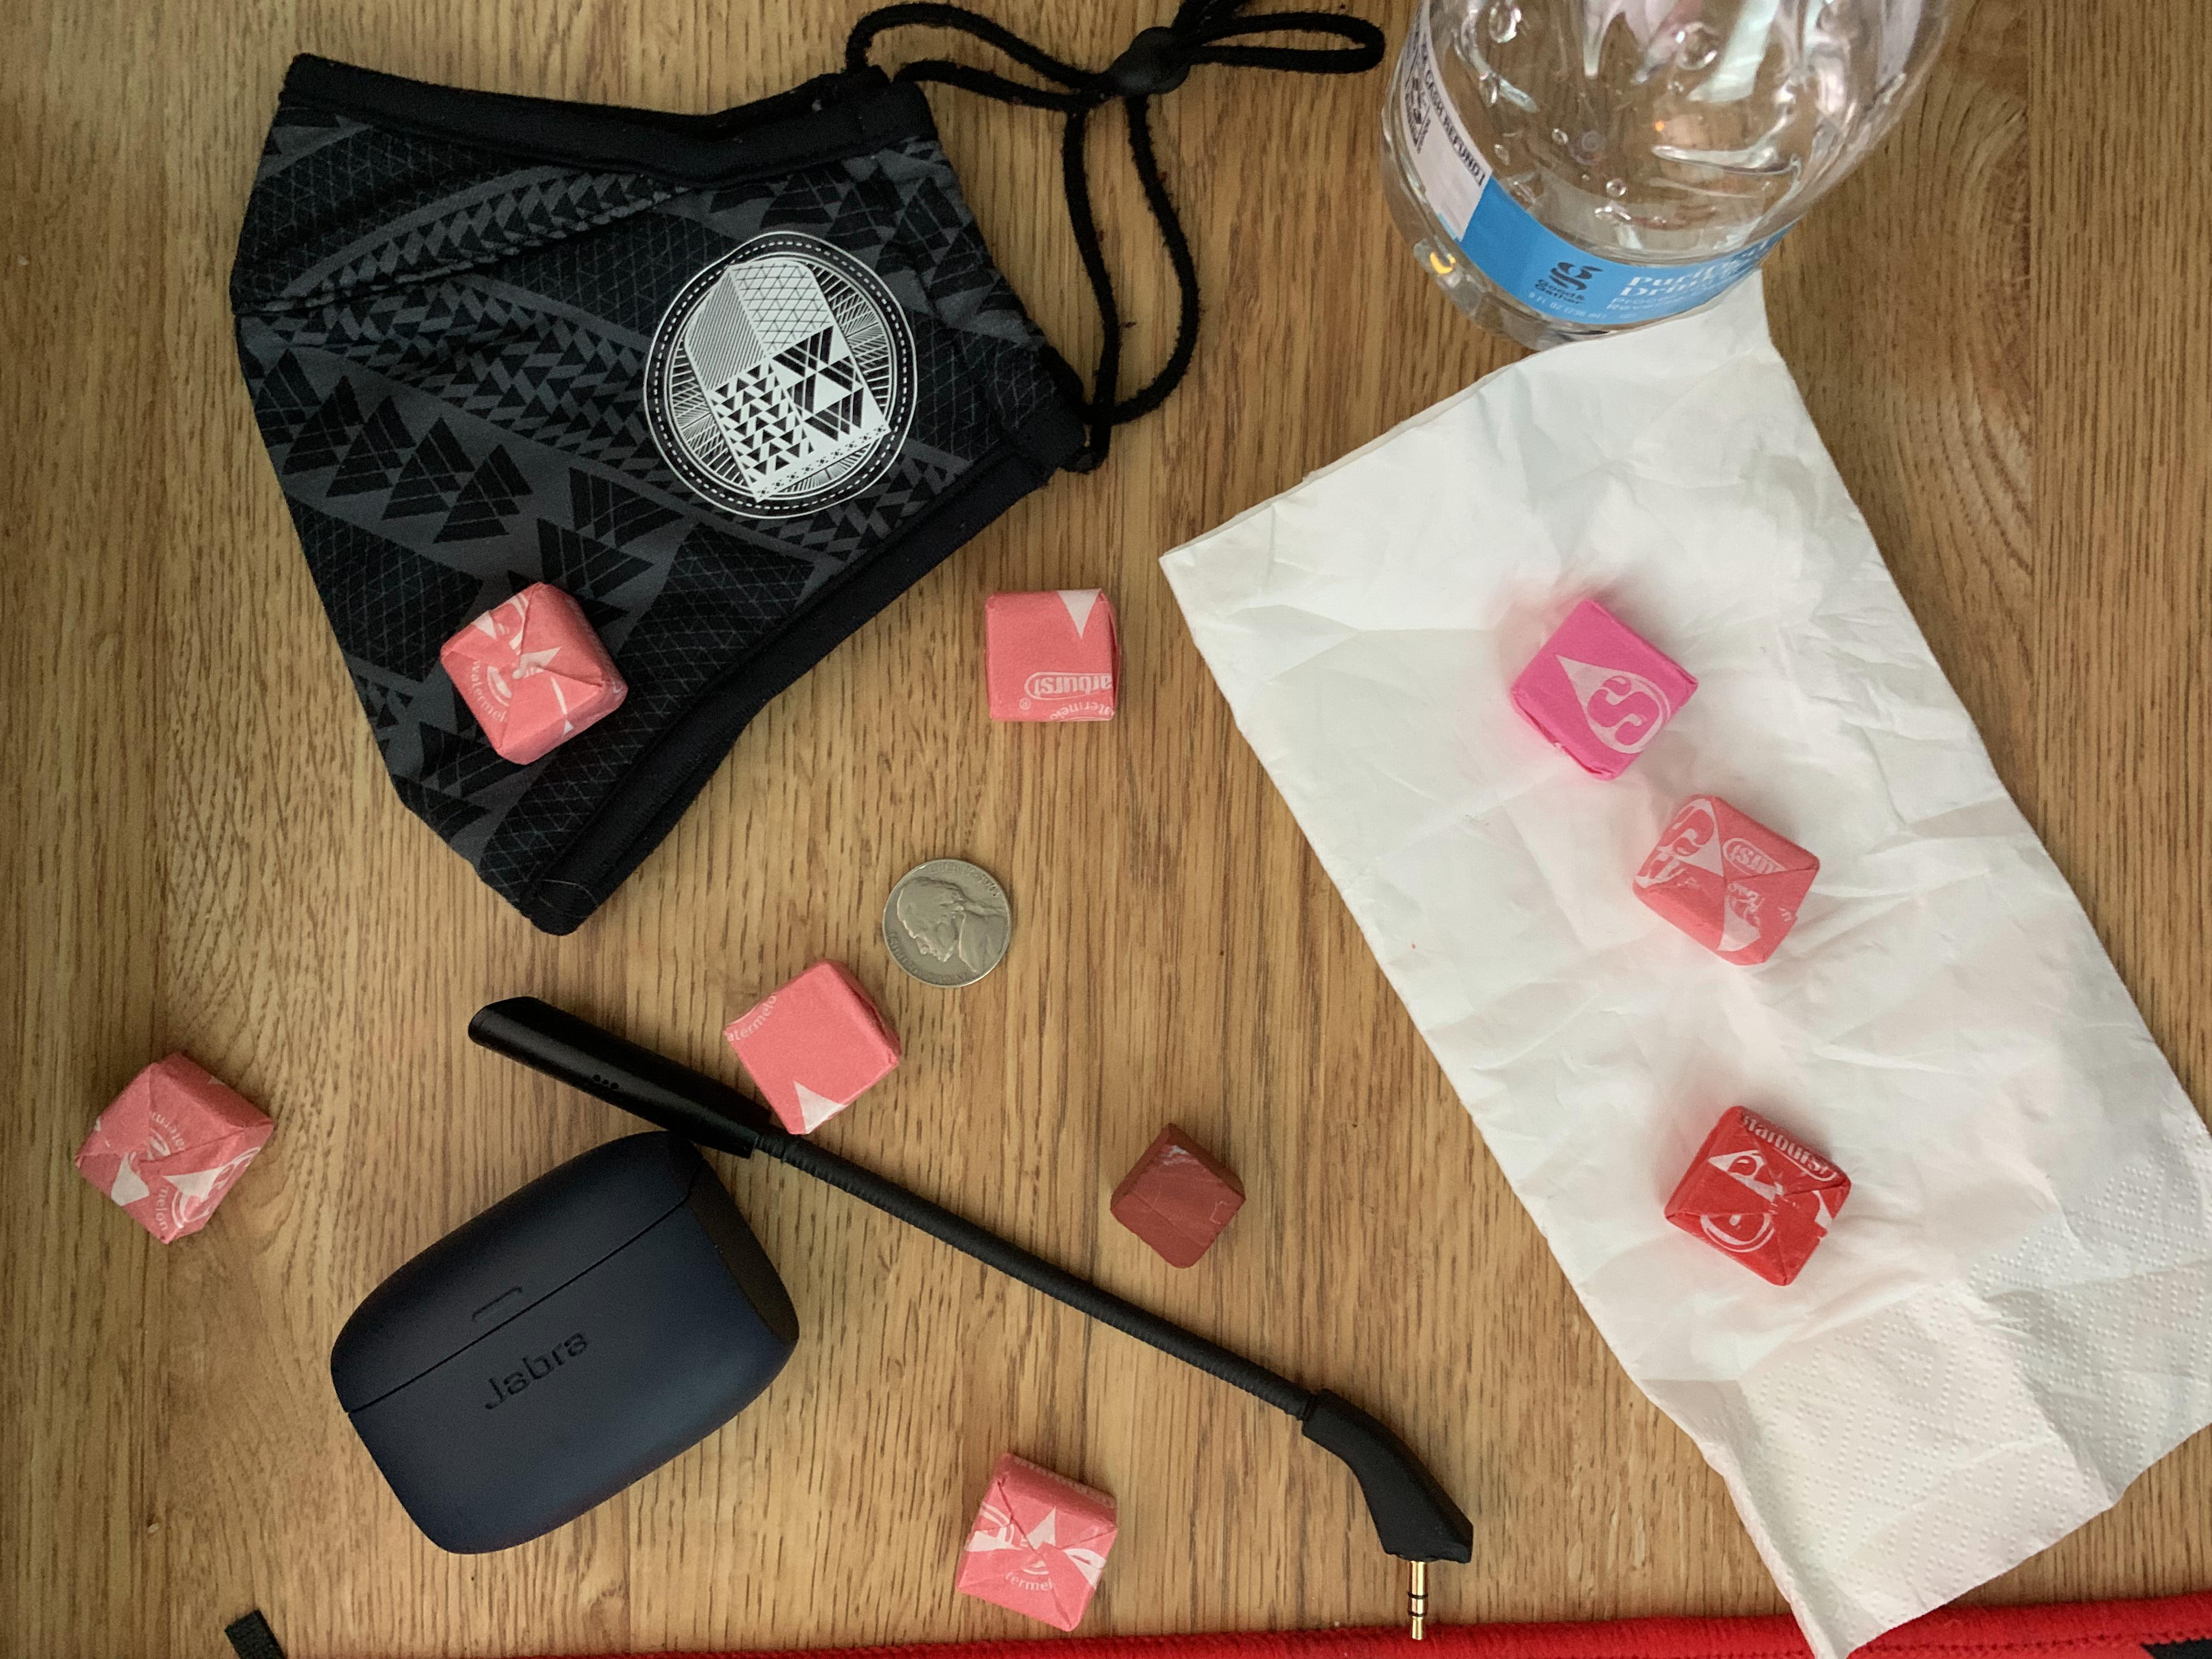Nickel: (876, 847, 1015, 993)
